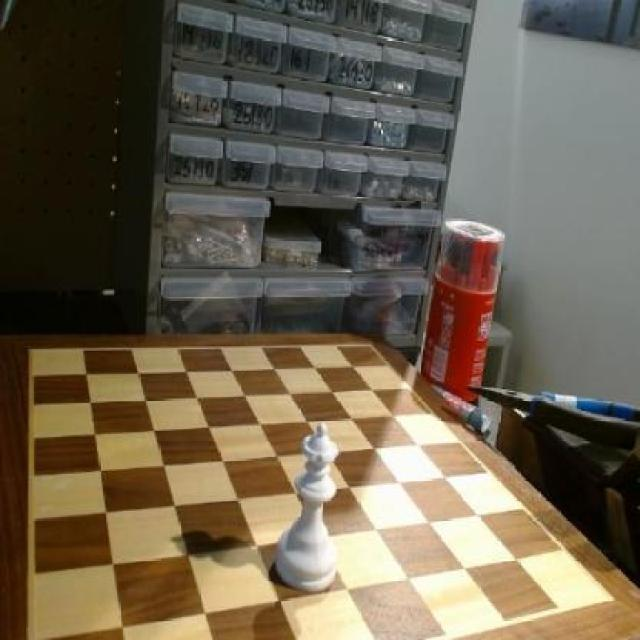white-pawn: (280, 425, 339, 596)
